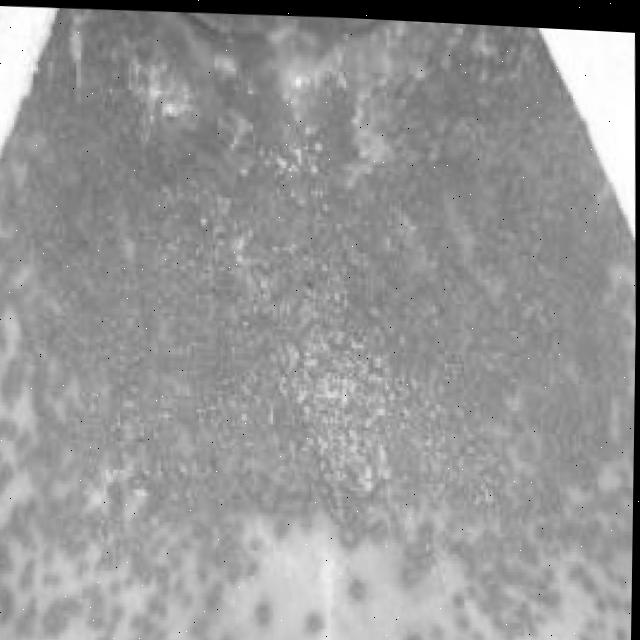Eczema: (25, 14, 614, 640)
